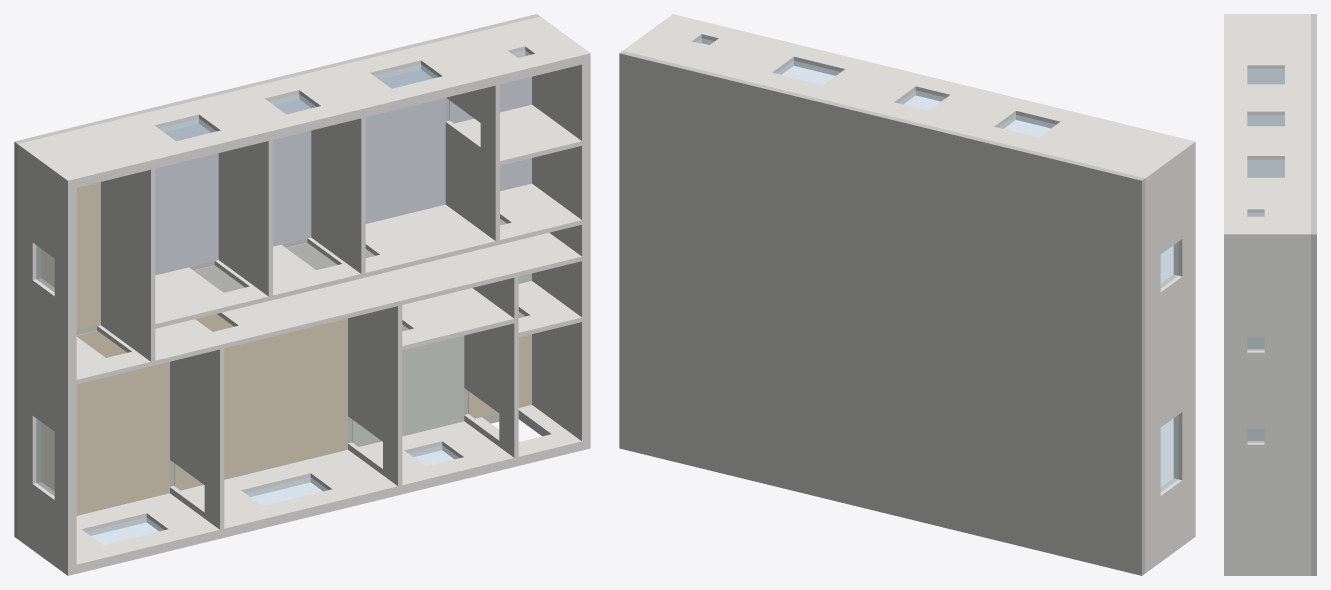
The model's file is family_seed2.glb.
The picture shows the model from 3 angles, left to right: view 1: azimuth 30°, elevation 25°; view 2: azimuth 150°, elevation 25°; view 3: azimuth 270°, elevation 25°; orthographic projection. The views are drawn at different scales.
Visible parts, largest first — view 1: wall_6, wall_2, floor_living1, floor_salon1, wall_3, wall_4, wall_1, floor_master1, floor_bedroom1, wall_5, floor_kitchen1, wall_0 (+31 smaller); view 2: slab, wall_2, wall_1, wall_5, wall_4, wall_0, wall_3, wall_6, lintel_13, glass_13, lintel_19, sill_13 (+5 smaller); view 3: wall_6, wall_2, wall_4, slab, wall_3, wall_5, sill_15, sill_23, glass_19, sill_19, glass_21, lintel_19 (+11 smaller).
Boxes of the visible parts, x1,y1,x2,y2 form: wall_6: (217, 16, 590, 453); wall_2: (17, 114, 238, 496); floor_living1: (174, 314, 347, 490); floor_salon1: (41, 330, 169, 515); wall_3: (184, 87, 331, 301); wall_4: (284, 62, 404, 279); wall_1: (17, 269, 120, 441); floor_master1: (365, 69, 445, 223); floor_bedroom1: (155, 123, 218, 275); wall_5: (406, 31, 531, 133); floor_kitchen1: (352, 324, 464, 446); wall_0: (17, 473, 116, 575); slab: (619, 51, 1145, 575); wall_2: (1024, 112, 1195, 265); wall_1: (1145, 267, 1195, 438); wall_5: (682, 28, 806, 83); wall_4: (808, 59, 928, 113); wall_0: (1145, 471, 1195, 573); wall_3: (914, 85, 1028, 137); wall_6: (623, 14, 714, 60); lintel_13: (1173, 402, 1195, 480); glass_13: (1161, 415, 1178, 491); lintel_19: (794, 47, 857, 75); sill_13: (1145, 428, 1160, 506); wall_6: (1224, 216, 1310, 575); wall_2: (1224, 14, 1310, 84); wall_4: (1224, 126, 1310, 177); slab: (1311, 14, 1316, 575); wall_3: (1224, 84, 1310, 126); wall_5: (1224, 177, 1310, 216); sill_15: (1264, 428, 1310, 444); sill_23: (1264, 337, 1310, 352); glass_19: (1247, 160, 1284, 177); sill_19: (1285, 156, 1310, 177); glass_21: (1247, 69, 1284, 83); lintel_19: (1224, 156, 1247, 177).
Bounding box in the file's own units: 18 × 13 × 3.2.
